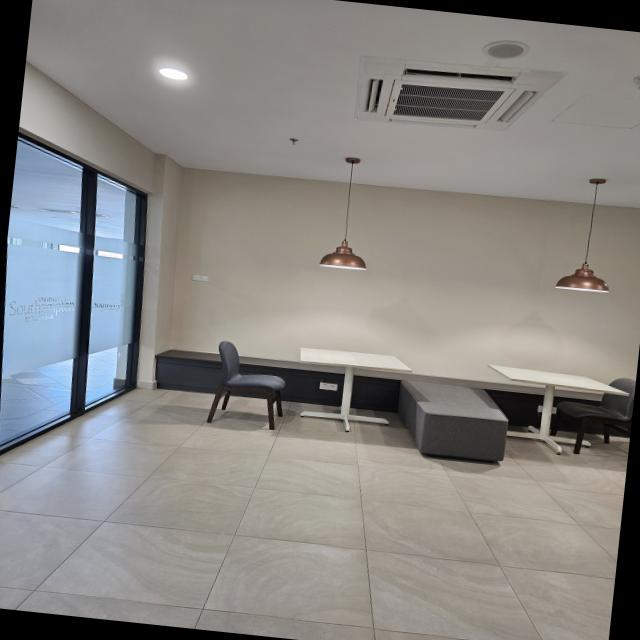footpath: (0, 413, 623, 640)
obstacle: (196, 326, 636, 470)
